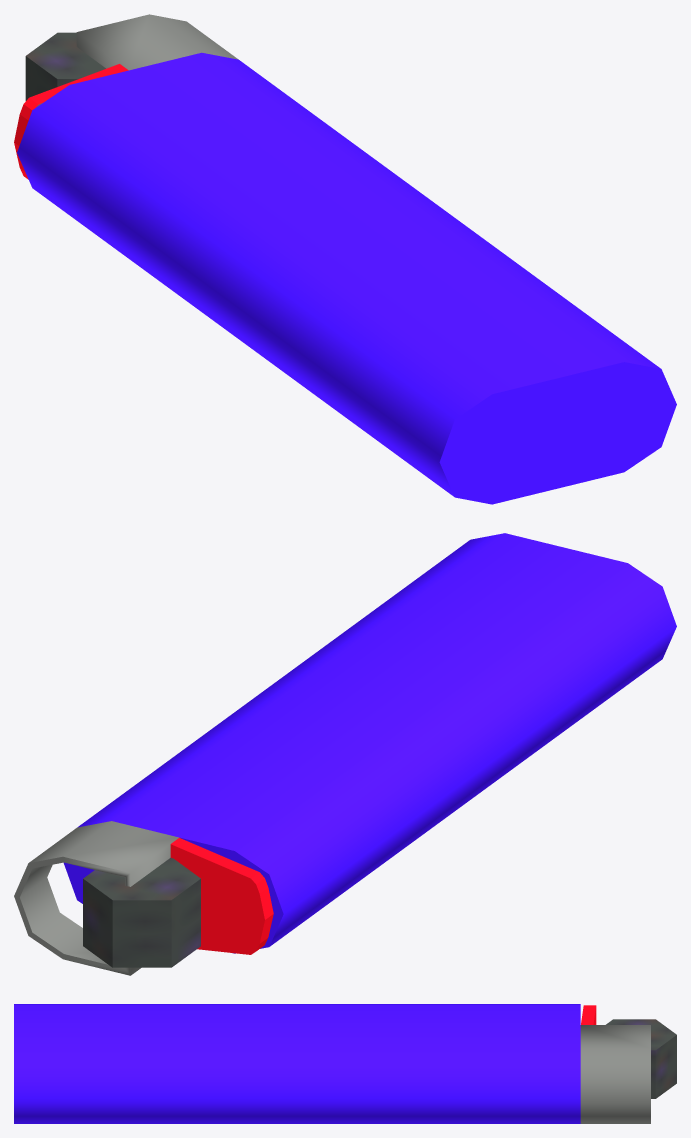
Rendered from 8dc572cb-5a7d-4e61-8083-f1efb865458d.glb.
The picture shows the model from 3 angles, top to bottom: view 1: azimuth 30°, elevation 25°; view 2: azimuth 150°, elevation 25°; view 3: azimuth 270°, elevation 25°; orthographic projection. The views are drawn at different scales.
Parts seen in each view (by area): view 1: SmokingAccesories07; view 2: SmokingAccesories07; view 3: SmokingAccesories07.
Boxes of the visible parts, left/top/right/bottom form: SmokingAccesories07: left=14, top=14, right=676, bottom=504; SmokingAccesories07: left=14, top=533, right=676, bottom=975; SmokingAccesories07: left=14, top=1004, right=676, bottom=1123.
Size of what is drawn, in the model's own units: 0.0594 by 0.0264 by 0.214.
1 material, 1 textured.
